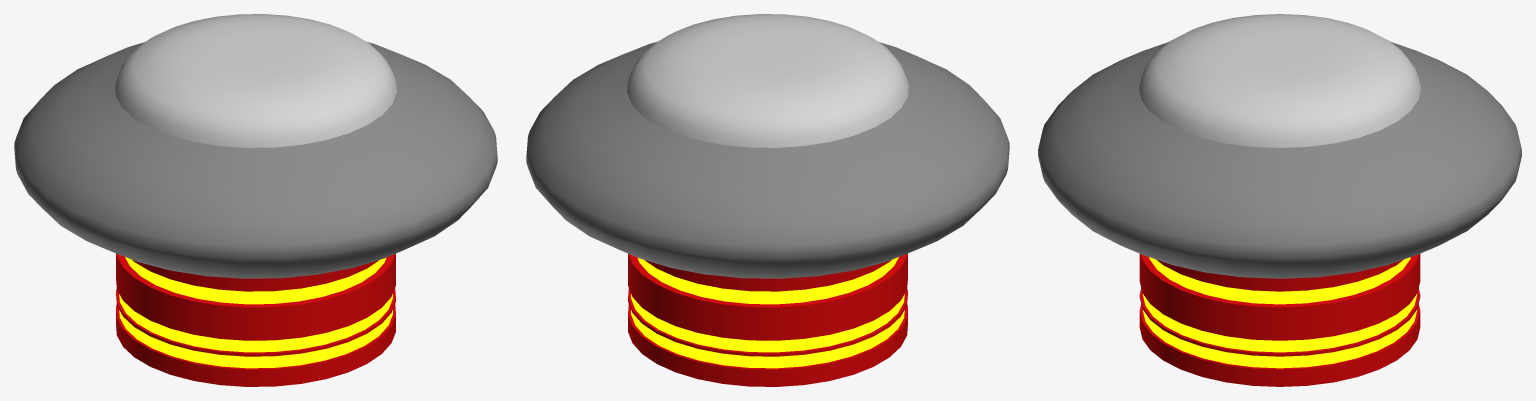
Rendered from Thumpert.fbx.
The picture shows the model from 3 angles, left to right: view 1: azimuth 30°, elevation 25°; view 2: azimuth 150°, elevation 25°; view 3: azimuth 270°, elevation 25°; orthographic projection.
Visible parts, largest first — view 1: Cylinder; view 2: Cylinder; view 3: Cylinder.
Boxes of the visible parts, box(x1,y1,x2,y2) form: Cylinder: box(14, 14, 497, 386); Cylinder: box(526, 14, 1009, 386); Cylinder: box(1038, 14, 1521, 386).
Bounding box in the file's own units: 294 × 183 × 294.
